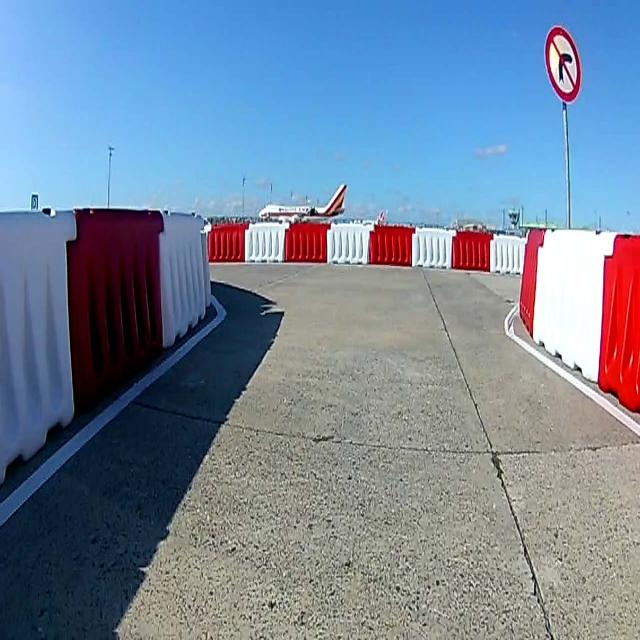sagadonulmez: (546, 27, 580, 101)
